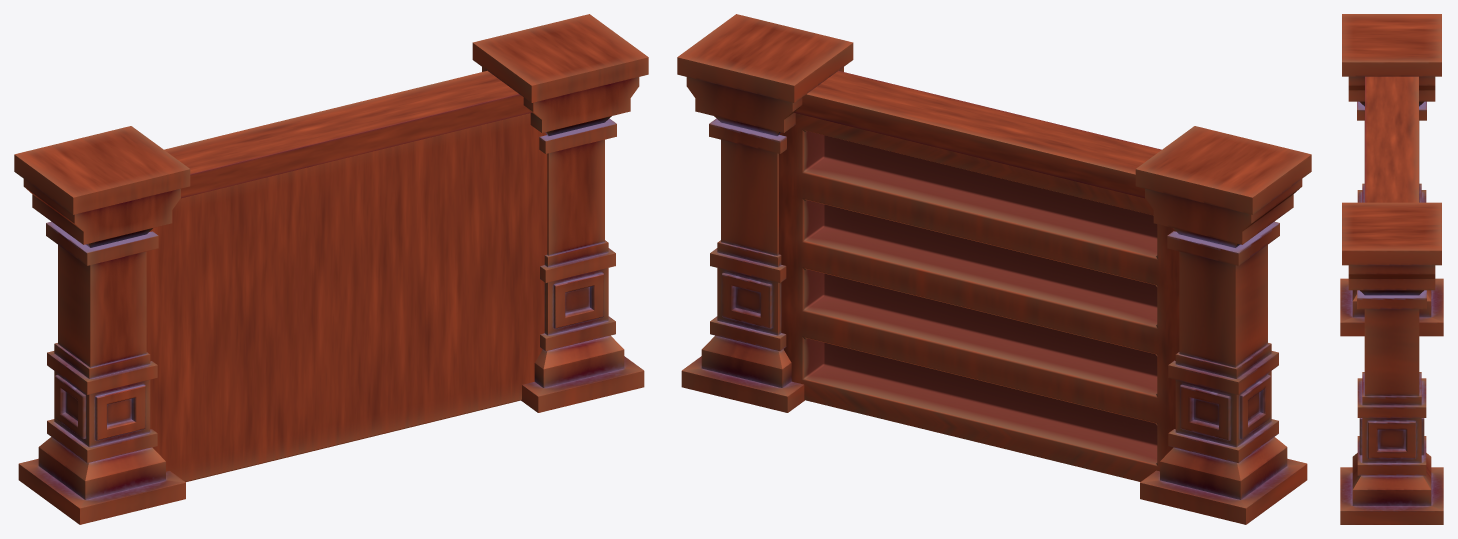
Rendered from wall_lvl2_bookcase_two_columne.fbx.
3 views of the same model, side by side, from view 1: azimuth 30°, elevation 25°; view 2: azimuth 150°, elevation 25°; view 3: azimuth 270°, elevation 25° (orthographic). The views are drawn at different scales.
Visible parts, largest first — view 1: bookcase_two_columne; view 2: bookcase_two_columne; view 3: bookcase_two_columne.
Part boxes in pixels (box(x1,y1,x2,y2)): bookcase_two_columne: box(14, 14, 648, 524); bookcase_two_columne: box(677, 14, 1311, 524); bookcase_two_columne: box(1340, 14, 1443, 524).
Bounding box in the file's own units: 1314 × 715 × 243.
